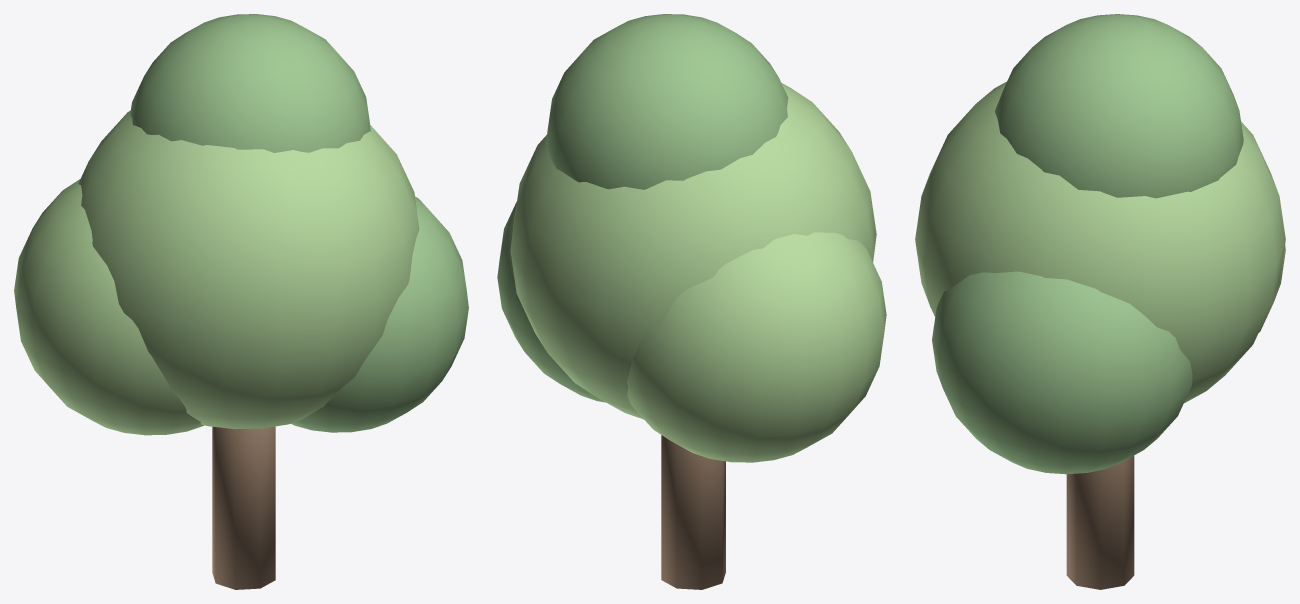
File: tree.glb
The picture shows the model from 3 angles, left to right: view 1: azimuth 30°, elevation 25°; view 2: azimuth 150°, elevation 25°; view 3: azimuth 270°, elevation 25°; orthographic projection. The views are drawn at different scales.
Visible parts, largest first — view 1: tree; view 2: tree; view 3: tree.
Part boxes in pixels (x1,y1,x2,y2): tree: (14, 14, 468, 589); tree: (497, 14, 886, 589); tree: (915, 14, 1285, 589).
Bounding box in the file's own units: 2.7 × 3.65 × 2.2.
